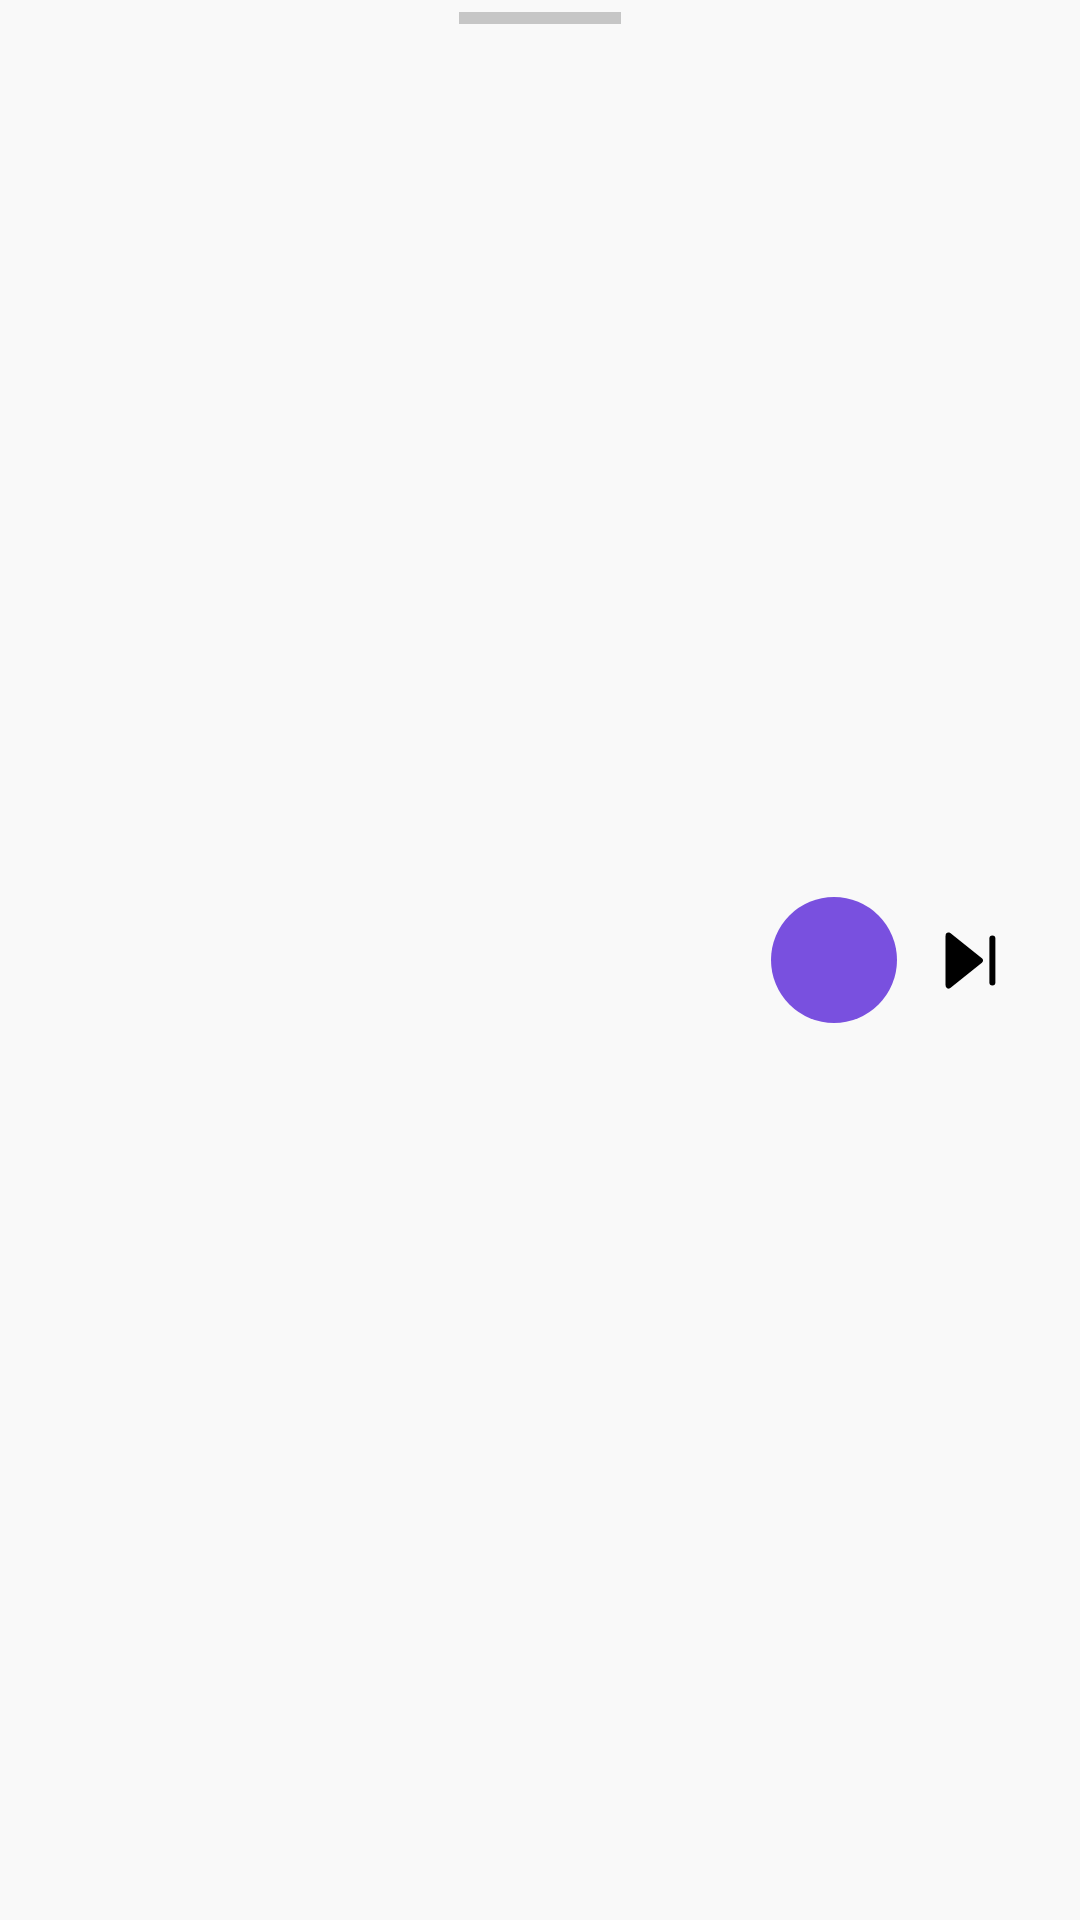

Icon bounding boxes for this 1080 × 1920 phone screenshot, format (x1, y1, x2, y2):
skip: (945, 932, 996, 989)
